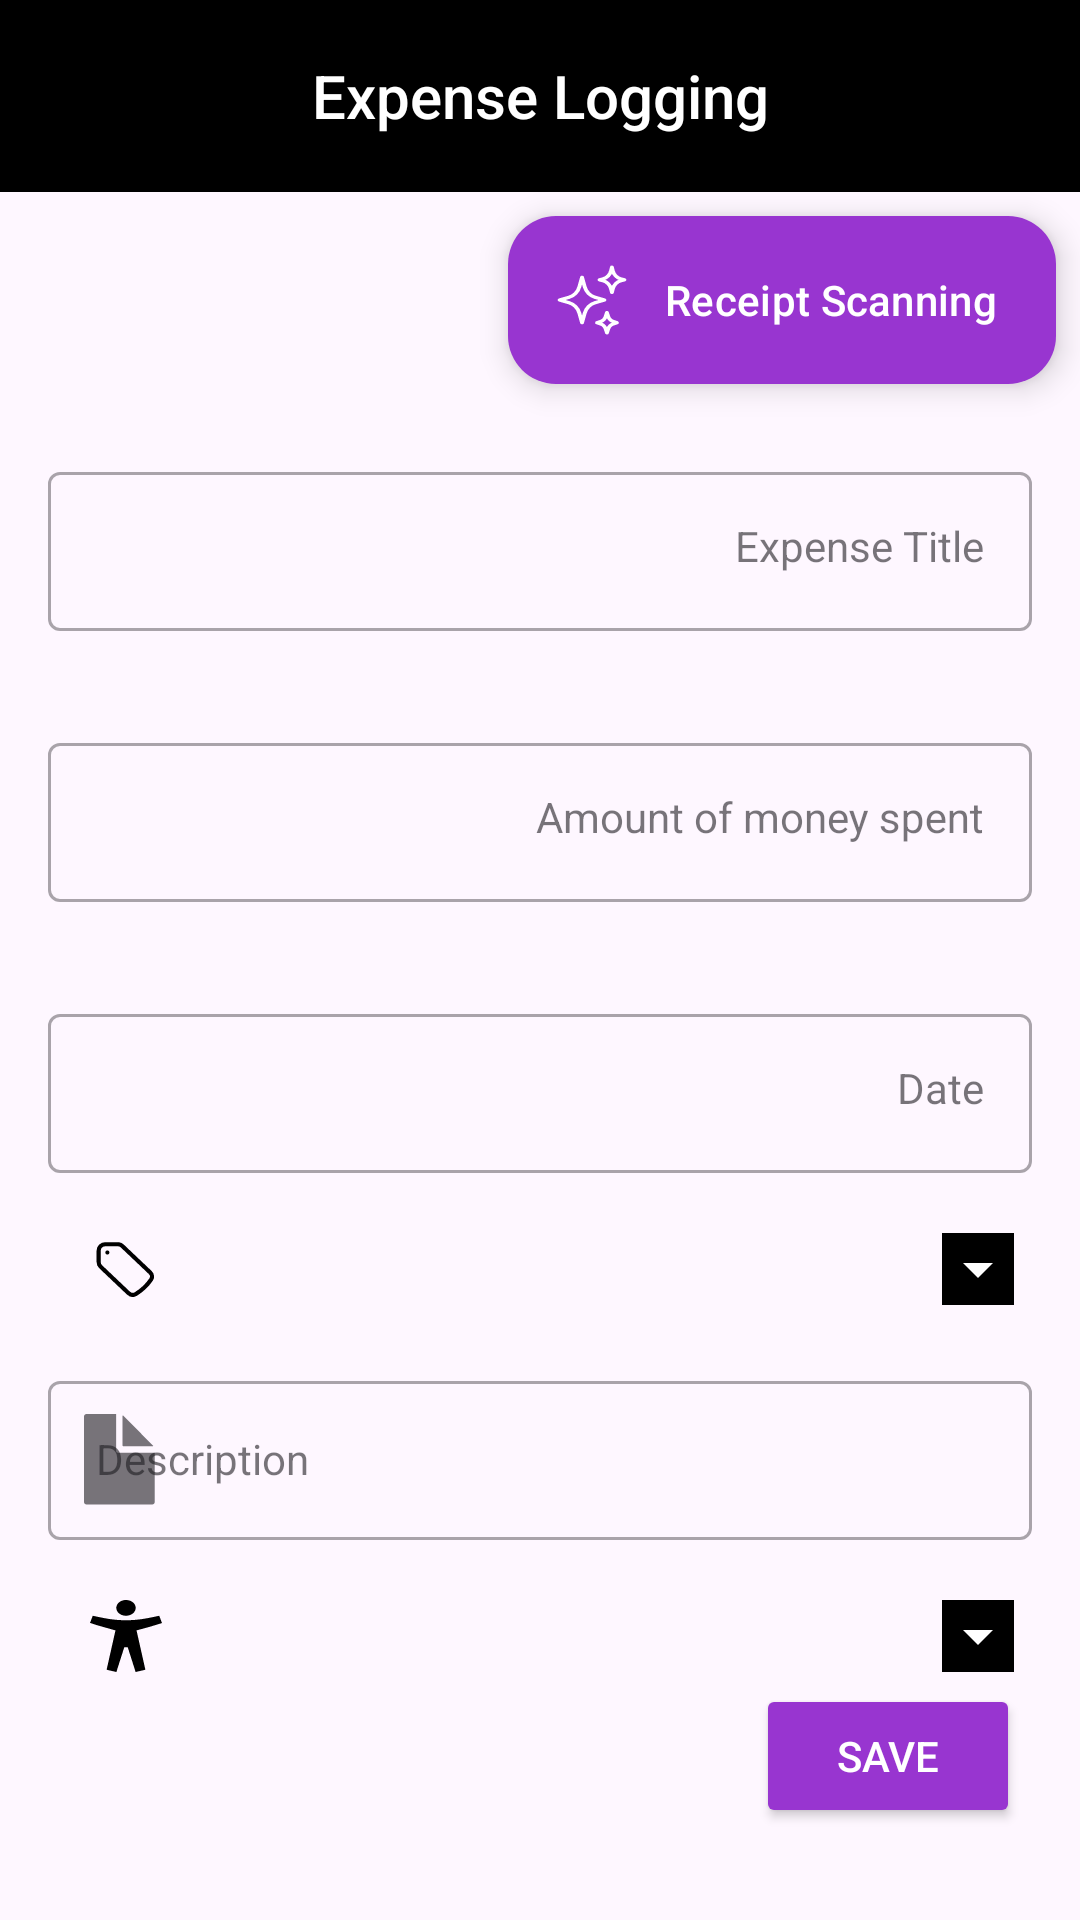

Point at icon controls on the screen. Image size 1080 x 1920, points as point (x, y).
price tag icon: point (125, 1269)
